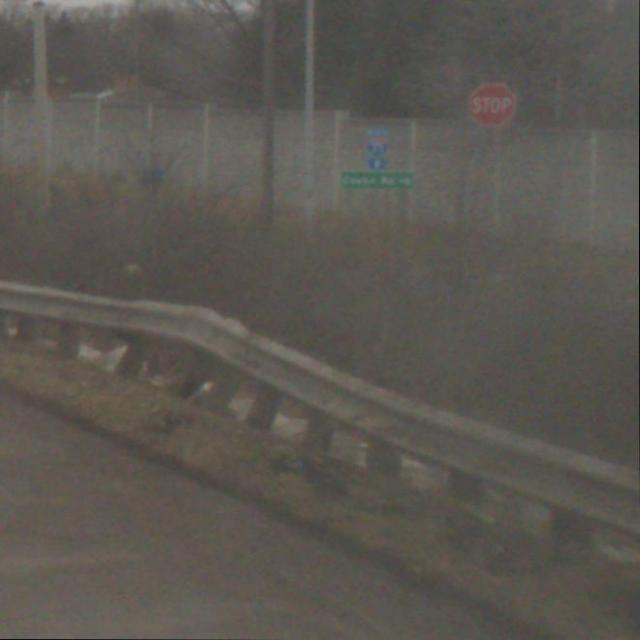Guard rail: (2, 276, 640, 588)
